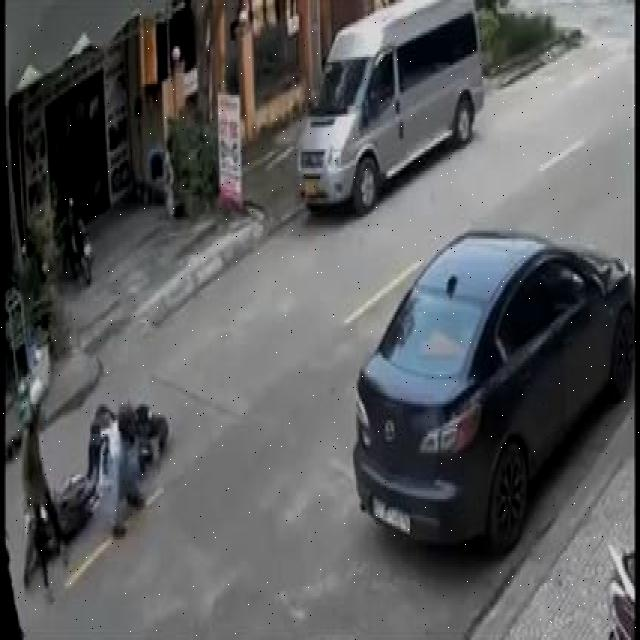accident: (18, 353, 174, 602)
